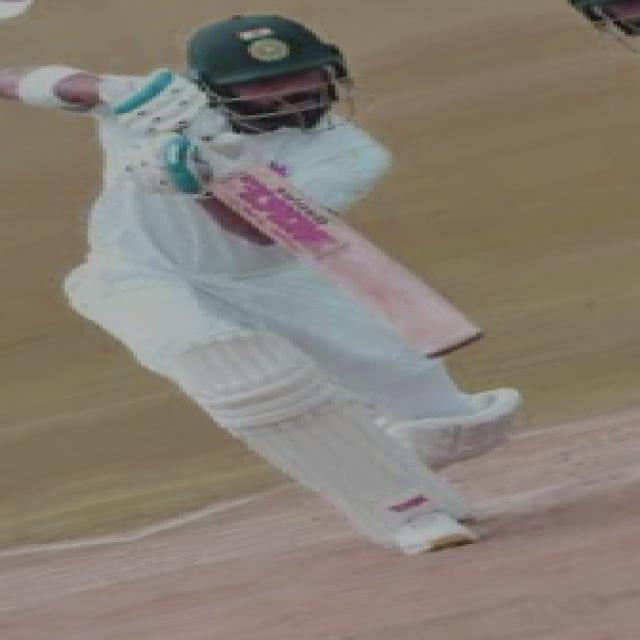bat: (181, 156, 489, 363)
toe: (426, 333, 484, 359)
